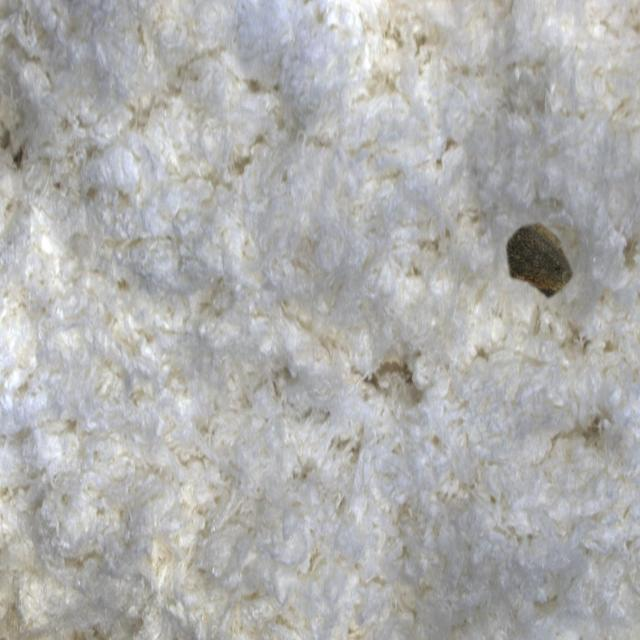dust: (488, 182, 608, 347)
